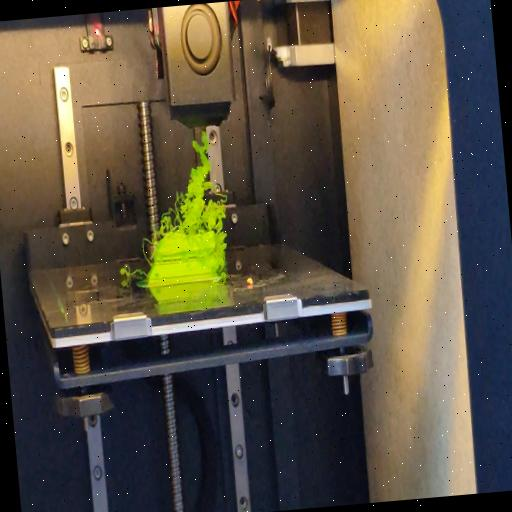spaghetti: (148, 128, 226, 242), (216, 235, 230, 281), (120, 262, 147, 280), (140, 238, 154, 266)
